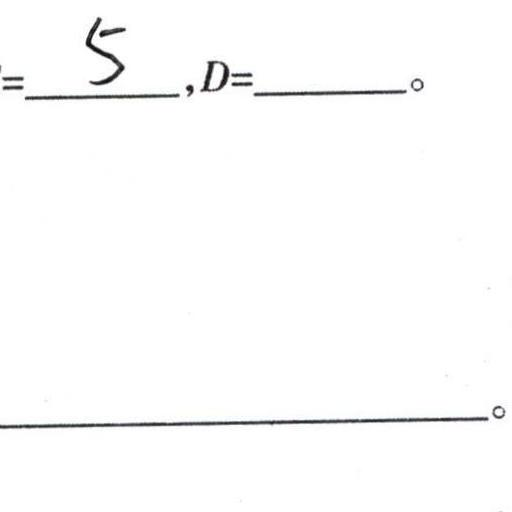ans: (78, 10, 128, 87)
